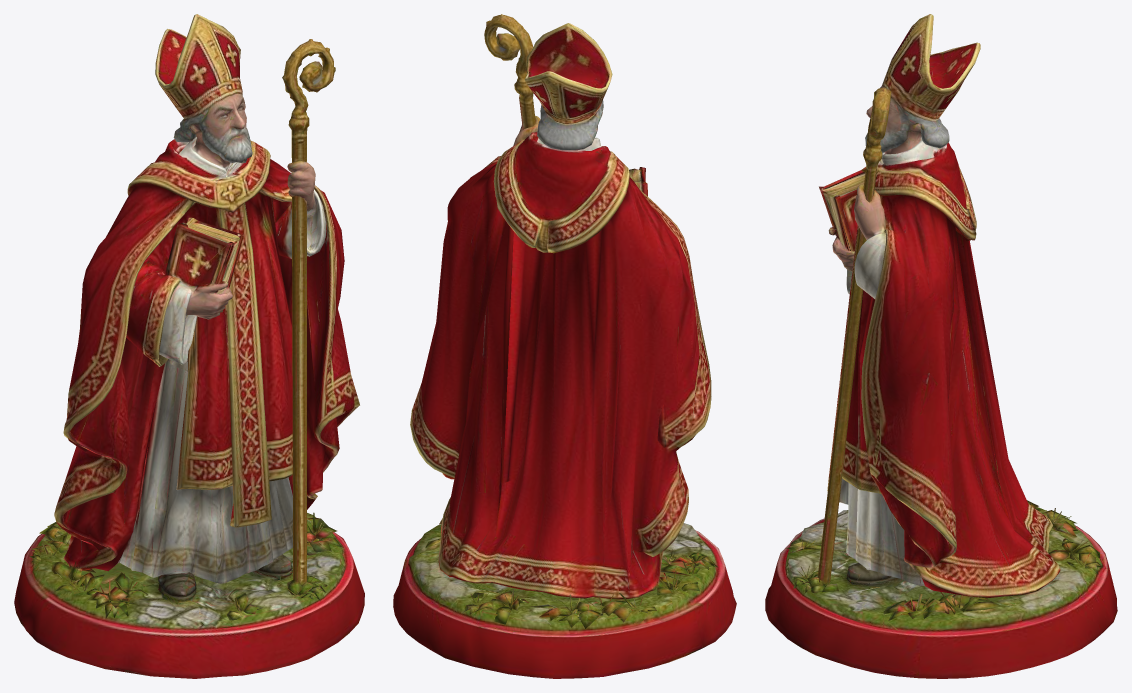
The model's file is vescovo.glb.
3 views of the same model, side by side, from view 1: azimuth 30°, elevation 25°; view 2: azimuth 150°, elevation 25°; view 3: azimuth 270°, elevation 25° (orthographic). The views are drawn at different scales.
Size of the model in its own units: 0.5244 by 0.9492 by 0.5127.
Materials: 1 (1 with a texture image).
